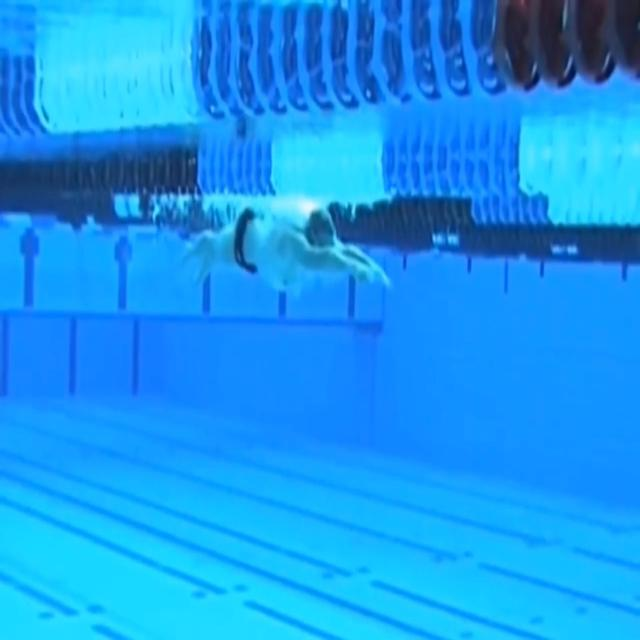Swimming: (182, 200, 395, 294)
